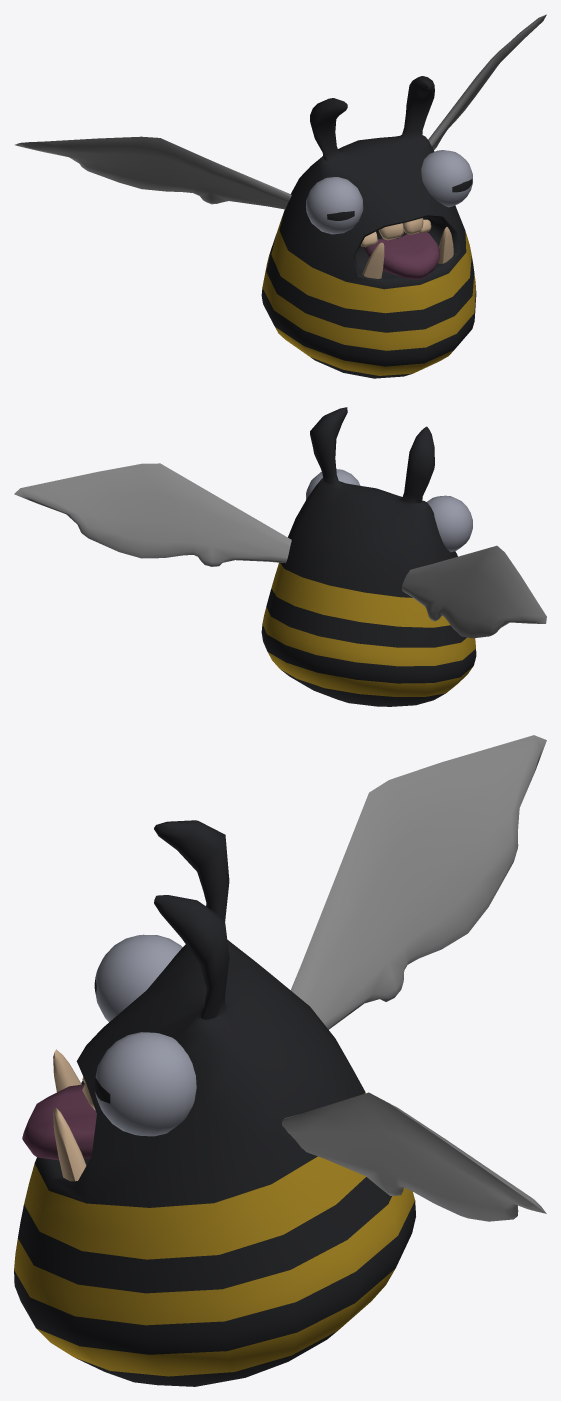
The model's file is armabee_evolved.glb.
3 renders of one model, top to bottom at view 1: azimuth 30°, elevation 25°; view 2: azimuth 150°, elevation 25°; view 3: azimuth 270°, elevation 25°, orthographic. The views are drawn at different scales.
Parts seen in each view (by area): view 1: Armabee_Evolved; view 2: Armabee_Evolved; view 3: Armabee_Evolved.
Boxes of the visible parts, <box> form: Armabee_Evolved: <box>15,14,546,378</box>; Armabee_Evolved: <box>14,407,546,706</box>; Armabee_Evolved: <box>14,735,546,1386</box>.
Size of the model in its own units: 4.3 by 2.14 by 2.05.
Materials: 1 (1 with a texture image).
